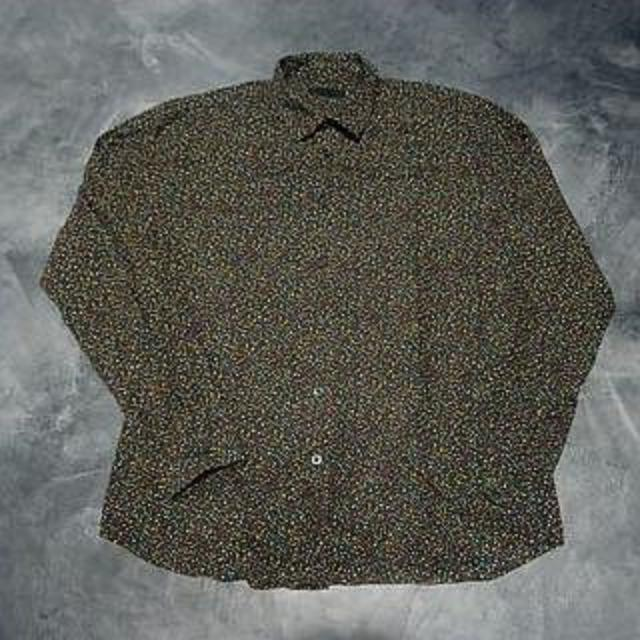SHIRT: (23, 39, 637, 594)
